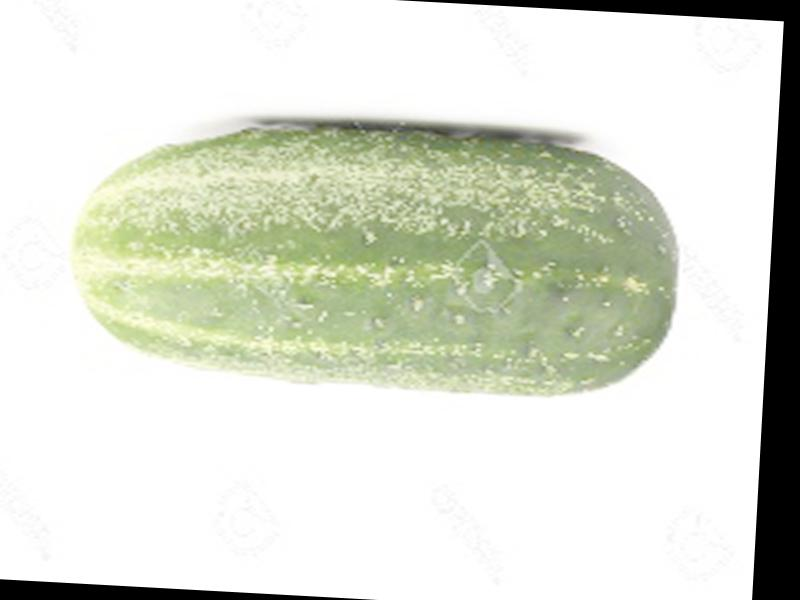Cucumber: (69, 109, 689, 404)
